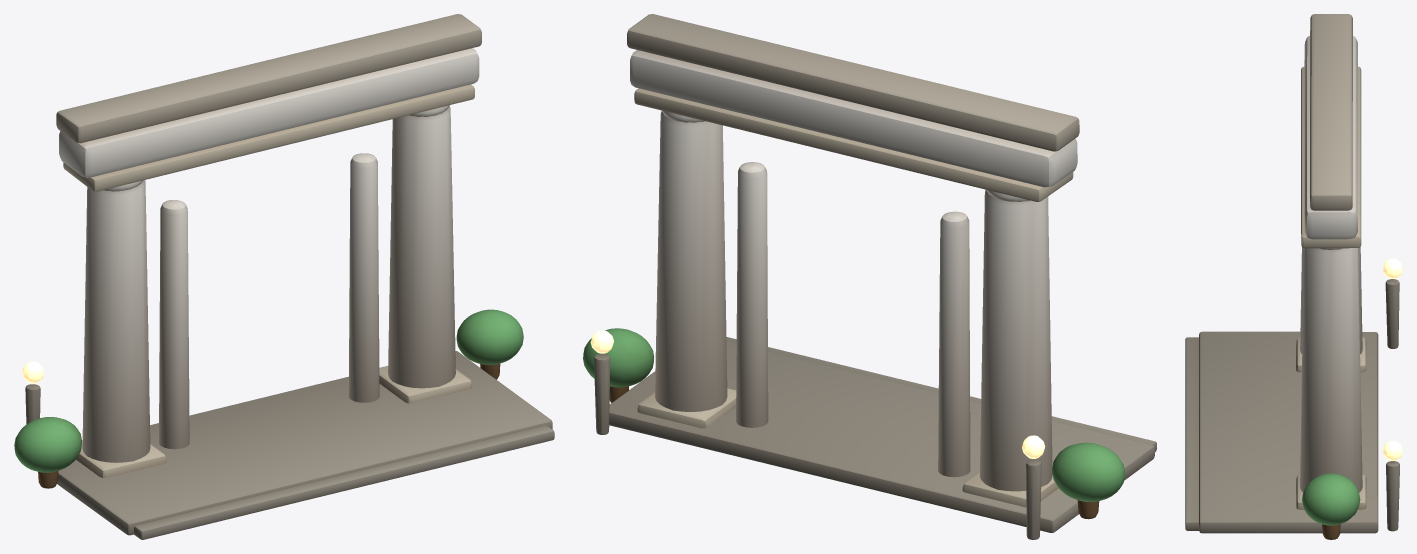
3 renders of one model, left to right at view 1: azimuth 30°, elevation 25°; view 2: azimuth 150°, elevation 25°; view 3: azimuth 270°, elevation 25°, orthographic. The views are drawn at different scales.
Parts seen in each view (by area): view 1: gate_7d99047c; view 2: gate_7d99047c; view 3: gate_7d99047c.
Part boxes in pixels (x1,y1,x2,y2): gate_7d99047c: (14, 14, 554, 539); gate_7d99047c: (583, 14, 1156, 539); gate_7d99047c: (1185, 14, 1402, 539).
Size of the model in its own units: 6.25 by 4.34 by 2.54.
